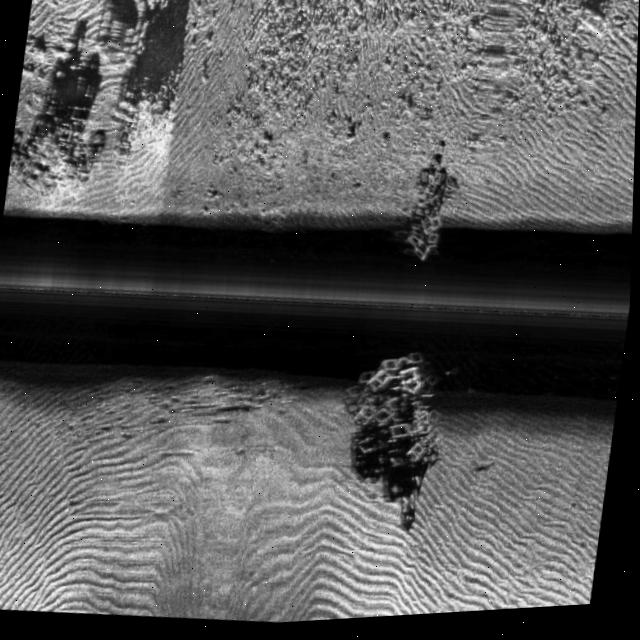artificial reef: (335, 337, 466, 483), (371, 163, 465, 275)
